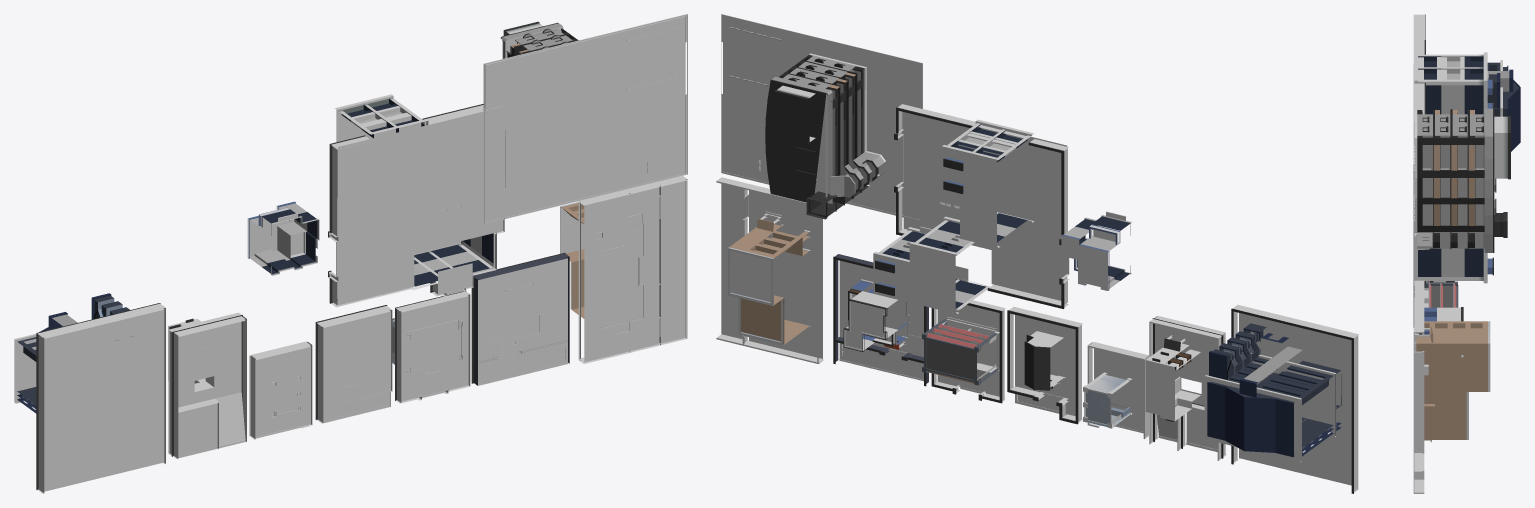
File: SM_000293_merge_w40h102_atlas1_1_7_lv2.fbx
3 renders of one model, left to right at view 1: azimuth 30°, elevation 25°; view 2: azimuth 150°, elevation 25°; view 3: azimuth 270°, elevation 25°, orthographic. The views are drawn at different scales.
Visible parts, largest first — view 1: SM_000293.001; view 2: SM_000293.001; view 3: SM_000293.001.
Part boxes in pixels (x1,y1,x2,y2): SM_000293.001: (14, 14, 687, 493); SM_000293.001: (716, 14, 1358, 493); SM_000293.001: (1413, 14, 1520, 493).
Size of the model in its own units: 119 by 57.34 by 20.91.
